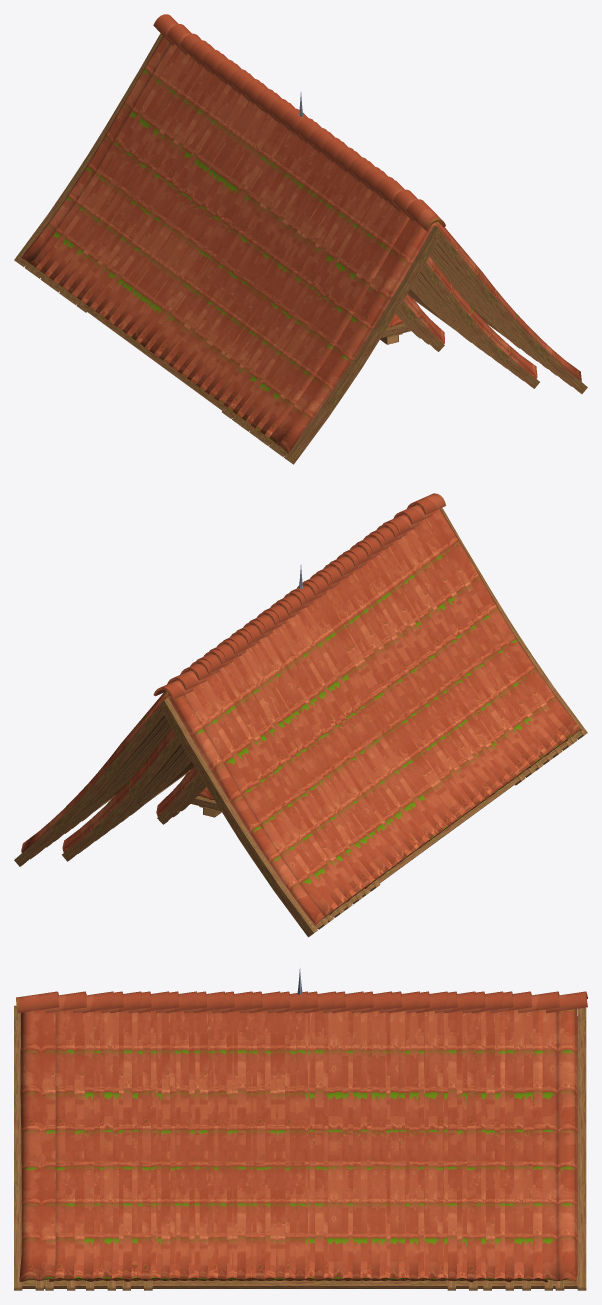
Rendered from village.gltf.
The picture shows the model from 3 angles, top to bottom: view 1: azimuth 30°, elevation 25°; view 2: azimuth 150°, elevation 25°; view 3: azimuth 270°, elevation 25°; orthographic projection. The views are drawn at different scales.
Visible parts, largest first — view 1: Roof_RoundTiles_8x14, Roof_RoundTiles_8x12, Roof_RoundTiles_8x10, Roof_RoundTiles_8x8, Roof_RoundTiles_6x12, Roof_RoundTiles_4x6; view 2: Roof_RoundTiles_8x14, Roof_RoundTiles_8x12, Roof_RoundTiles_8x10, Roof_RoundTiles_8x8, Roof_RoundTiles_6x12, Roof_RoundTiles_4x6, Roof_RoundTiles_6x10; view 3: Roof_RoundTiles_8x14, Roof_RoundTiles_8x12, Roof_RoundTiles_8x10, Roof_RoundTiles_8x8.
Boxes of the visible parts, left/top/right/bottom form: Roof_RoundTiles_8x14: left=14, top=14, right=587, bottom=464; Roof_RoundTiles_8x12: left=30, top=24, right=565, bottom=449; Roof_RoundTiles_8x10: left=48, top=40, right=547, bottom=438; Roof_RoundTiles_8x8: left=66, top=50, right=529, bottom=424; Roof_RoundTiles_6x12: left=355, top=256, right=539, bottom=388; Roof_RoundTiles_4x6: left=396, top=294, right=444, bottom=351; Roof_RoundTiles_8x14: left=14, top=493, right=587, bottom=937; Roof_RoundTiles_8x12: left=36, top=505, right=572, bottom=922; Roof_RoundTiles_8x10: left=54, top=523, right=553, bottom=910; Roof_RoundTiles_8x8: left=72, top=532, right=535, bottom=896; Roof_RoundTiles_6x12: left=62, top=728, right=243, bottom=861; Roof_RoundTiles_4x6: left=156, top=766, right=205, bottom=824; Roof_RoundTiles_6x10: left=85, top=748, right=193, bottom=848; Roof_RoundTiles_8x14: left=14, top=991, right=587, bottom=1290; Roof_RoundTiles_8x12: left=45, top=991, right=559, bottom=1290; Roof_RoundTiles_8x10: left=82, top=991, right=513, bottom=1290; Roof_RoundTiles_8x8: left=110, top=991, right=485, bottom=1290.
Bounding box in the file's own units: 9.95 × 8.91 × 15.71.
11 materials, 10 textured.
